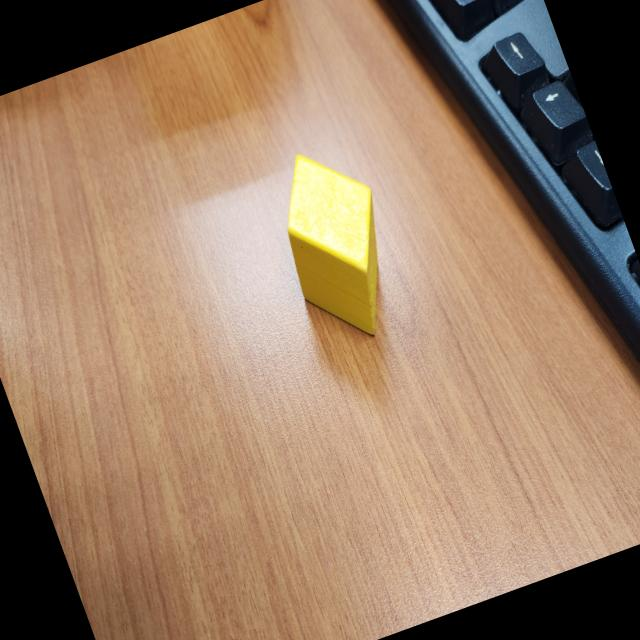yellow: (288, 154, 379, 336)
